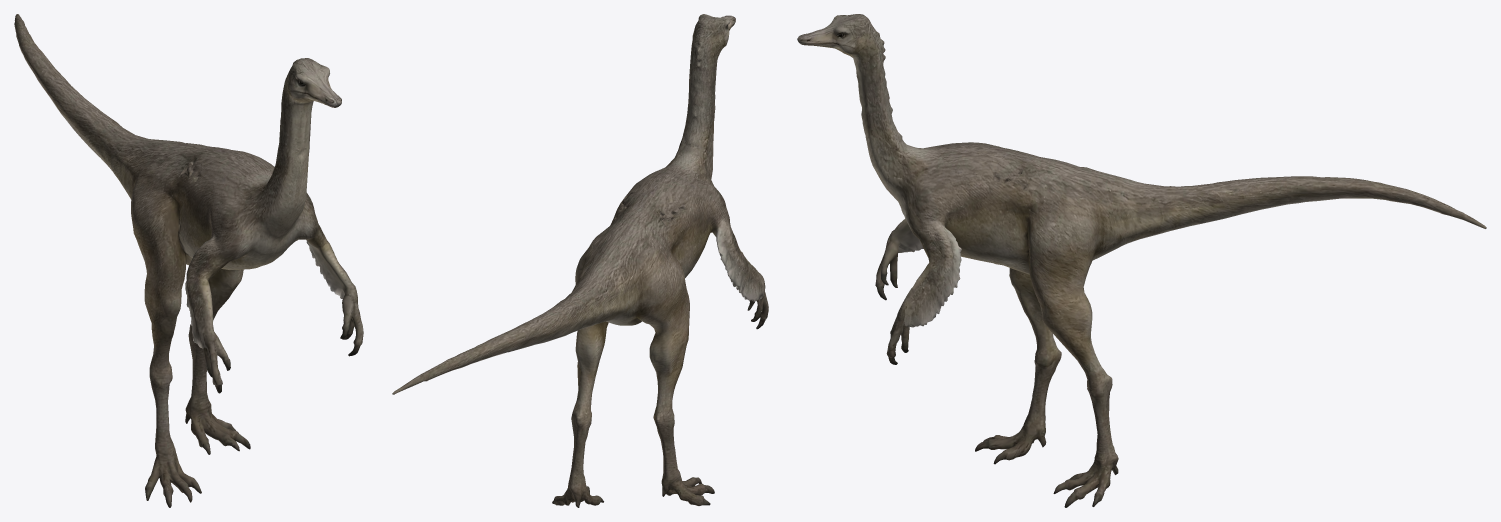
File: gallimimus.glb
3 views of the same model, side by side, from view 1: azimuth 30°, elevation 25°; view 2: azimuth 150°, elevation 25°; view 3: azimuth 270°, elevation 25° (orthographic). The views are drawn at different scales.
Parts seen in each view (by area): view 1: dino; view 2: dino; view 3: dino.
Part boxes in pixels (x1,y1,x2,y2): dino: (14, 14, 363, 507); dino: (392, 14, 768, 507); dino: (797, 14, 1486, 507).
Size of the model in its own units: 1.58 by 4.49 by 6.
1 material, 1 textured.
